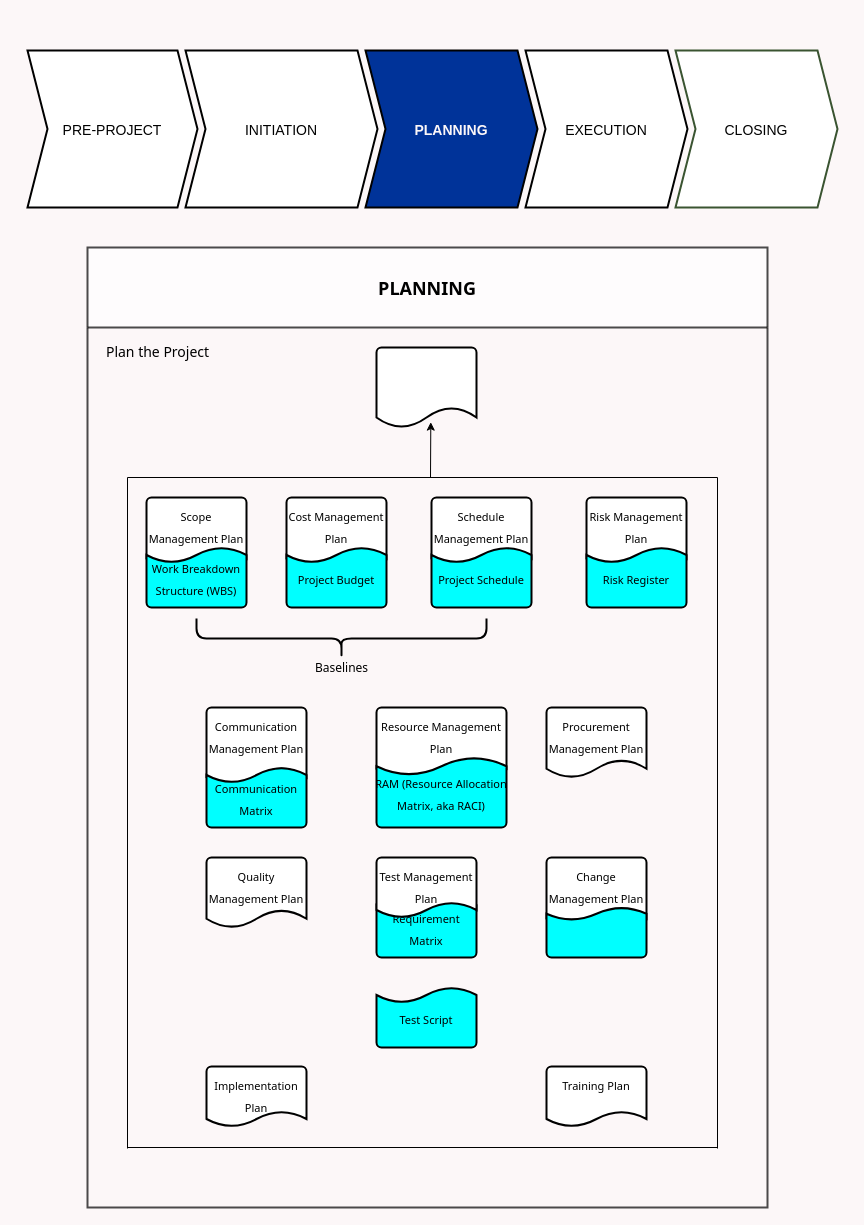
The diagram is 864 pixels wide and 1225 high, and some of its shapes have lost their labels. The shapes that lost their labels are listed below. From the top down, each one's centre as x and y in pixels, then its label:
pixel 426 387: Project Management Plan
pixel 596 932: Change Request
